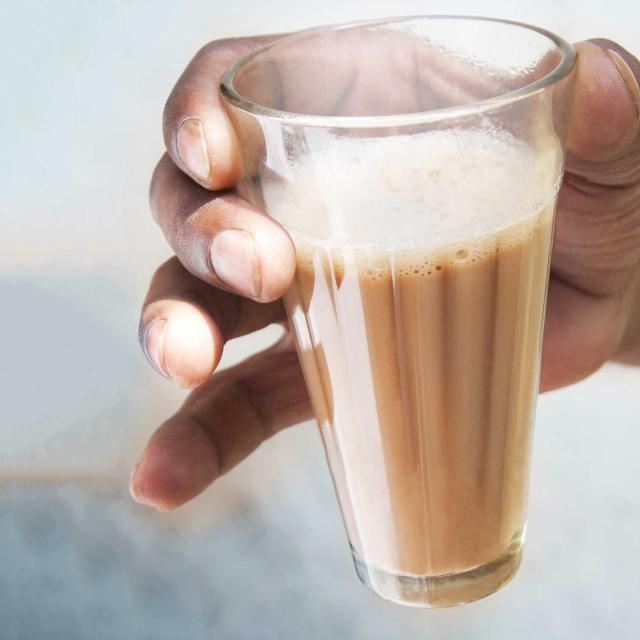chai: (210, 10, 546, 626)
